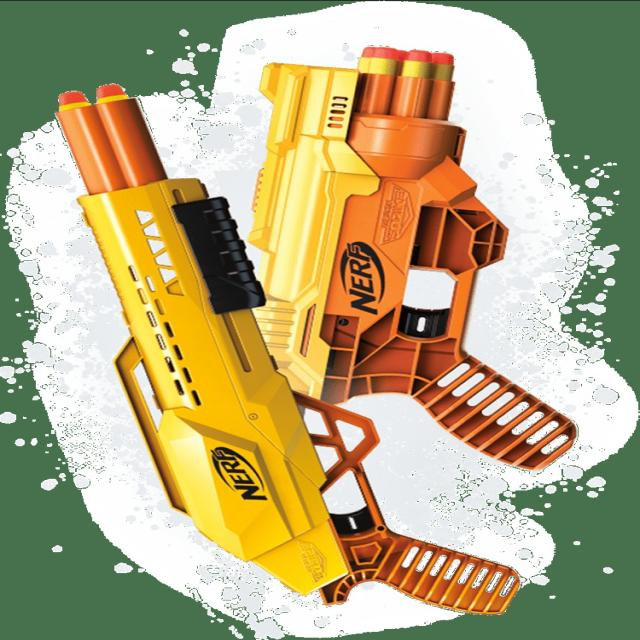Nerf gun: (54, 82, 526, 619), (242, 45, 584, 474)
